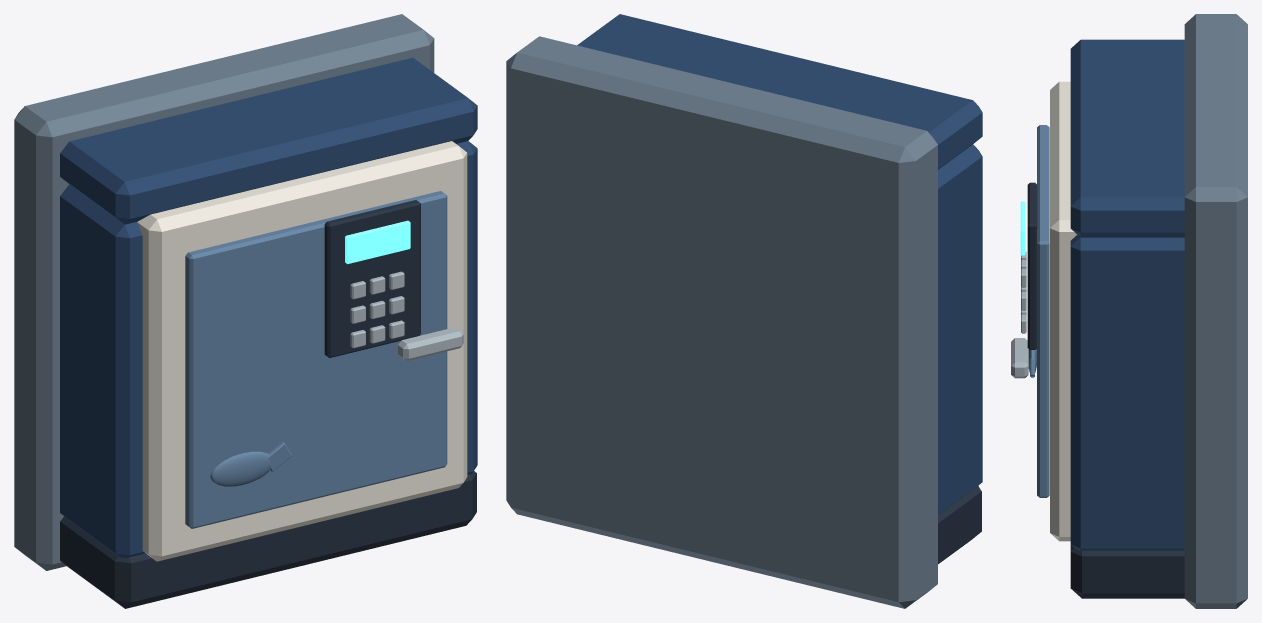
The model's file is safes_04.glb.
3 renders of one model, left to right at view 1: azimuth 30°, elevation 25°; view 2: azimuth 150°, elevation 25°; view 3: azimuth 270°, elevation 25°, orthographic. The views are drawn at different scales.
Visible parts, largest first — view 1: InsetPanel, DoorPanel, MountingFrame, Top, Side (×2), Base, KeypadPanel, TinyScreen, WhaleBody, Handle; view 2: MountingFrame, Top, Side, Base; view 3: MountingFrame, Side, Top, DoorPanel, Base, InsetPanel, KeypadPanel, Handle.
Boxes of the visible parts, bbox=[...] form: InsetPanel: bbox=[185, 191, 447, 528]; DoorPanel: bbox=[137, 141, 467, 561]; MountingFrame: bbox=[14, 14, 434, 570]; Top: bbox=[60, 57, 477, 224]; Side (×2): bbox=[60, 141, 477, 557]; Base: bbox=[60, 471, 476, 608]; KeypadPanel: bbox=[324, 200, 420, 357]; TinyScreen: bbox=[345, 220, 410, 264]; WhaleBody: bbox=[210, 451, 270, 486]; Handle: bbox=[398, 327, 463, 360]; MountingFrame: bbox=[506, 36, 937, 608]; Top: bbox=[577, 14, 982, 169]; Side: bbox=[938, 144, 982, 514]; Base: bbox=[938, 486, 981, 563]; MountingFrame: bbox=[1184, 14, 1247, 608]; Side: bbox=[1070, 235, 1184, 550]; Top: bbox=[1070, 39, 1184, 237]; DoorPanel: bbox=[1050, 81, 1077, 541]; Base: bbox=[1070, 545, 1184, 598]; InsetPanel: bbox=[1037, 125, 1049, 497]; KeypadPanel: bbox=[1027, 182, 1037, 349]; Handle: bbox=[1011, 338, 1028, 378].
Size of the model in its own units: 0.682 by 0.735 by 0.374.
